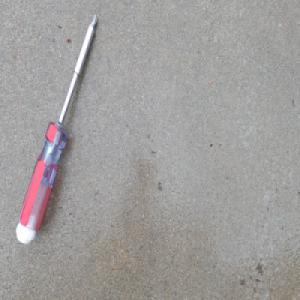Screwdriver: (14, 12, 99, 245)
